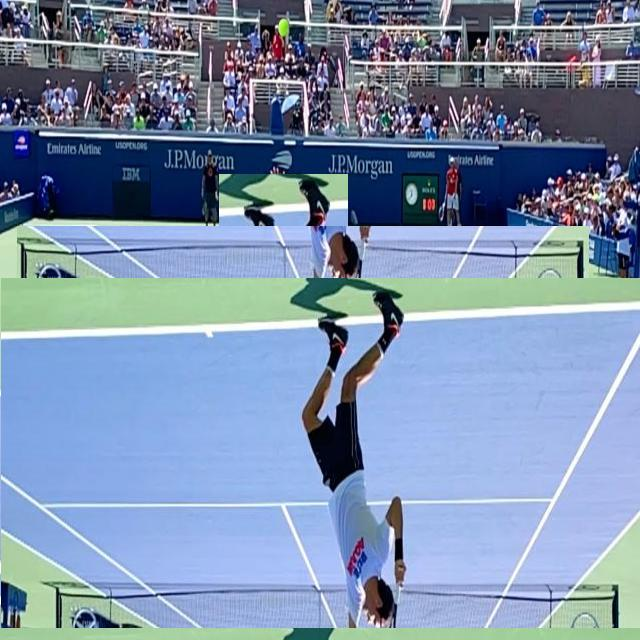court: (1, 278, 640, 628)
net: (17, 226, 589, 336)
player: (219, 174, 348, 620)
